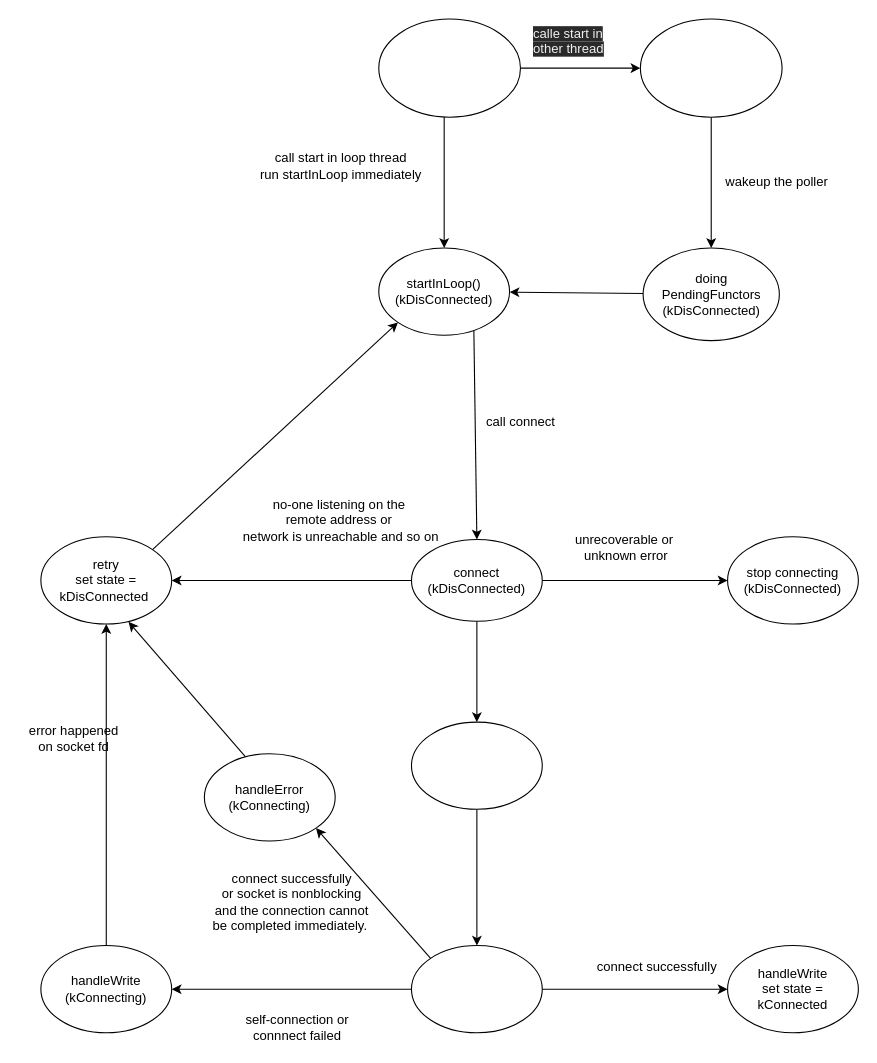
Image size: 877x1063. Some labels were removed from this diagram. The shapes that lost their labels are listed below. From the top down, each one's box as (x1, y1, x2, y2) in pixels, then its label:
(378, 18, 520, 117): 构建 Connector 对象 （kDisConnected）
(639, 18, 782, 117): push into the PendingFunctors (kDisConnected)
(410, 721, 542, 809): connecting (kConnecting)
(410, 944, 542, 1033): polling (kConnecting)
